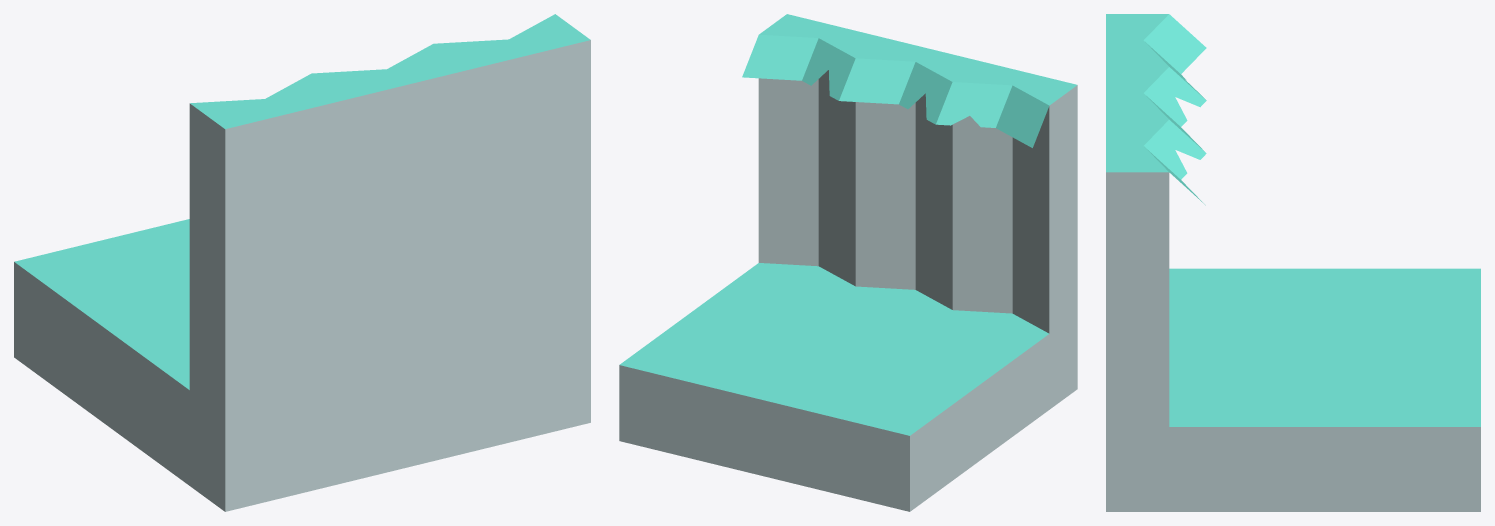
The model's file is cliff_quarter_top_stone.glb.
3 views of the same model, side by side, from view 1: azimuth 30°, elevation 25°; view 2: azimuth 150°, elevation 25°; view 3: azimuth 270°, elevation 25° (orthographic). The views are drawn at different scales.
Visible parts, largest first — view 1: cliff_quarter_top_stone; view 2: cliff_quarter_top_stone; view 3: cliff_quarter_top_stone.
Part boxes in pixels (left/top/right/bottom): cliff_quarter_top_stone: left=14, top=14, right=590, bottom=511; cliff_quarter_top_stone: left=619, top=14, right=1077, bottom=511; cliff_quarter_top_stone: left=1106, top=14, right=1480, bottom=511.
Size of the model in its own units: 1 by 1 by 1.
